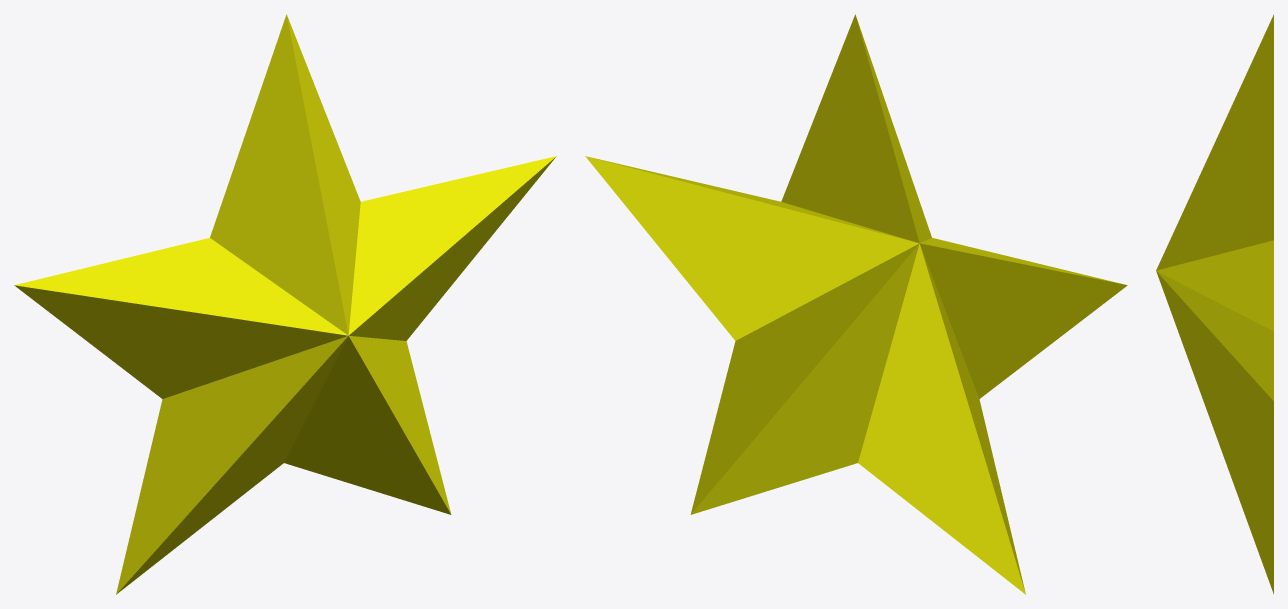
The model's file is star (1).fbx.
The picture shows the model from 3 angles, left to right: view 1: azimuth 30°, elevation 25°; view 2: azimuth 150°, elevation 25°; view 3: azimuth 270°, elevation 25°; orthographic projection. The views are drawn at different scales.
Parts seen in each view (by area): view 1: star; view 2: star; view 3: star.
Part boxes in pixels (x1,y1,x2,y2): star: [14, 14, 556, 594]; star: [585, 14, 1127, 594]; star: [1156, 14, 1273, 594].
Size of the model in its own units: 1.84 by 1.75 by 0.3706.
